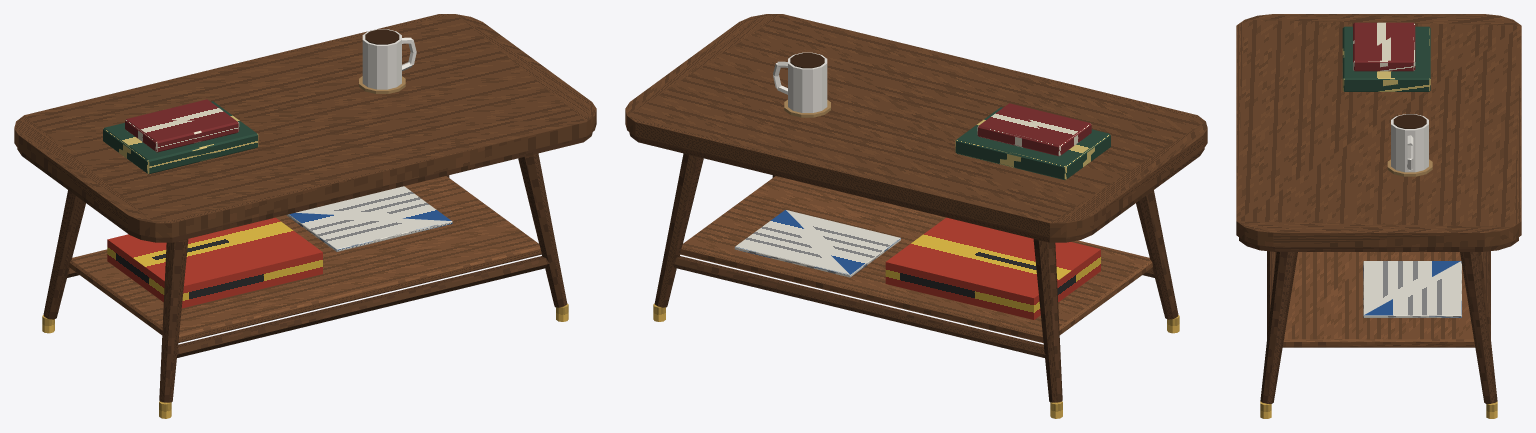
File: f_coffee_table.glb
3 renders of one model, left to right at view 1: azimuth 30°, elevation 25°; view 2: azimuth 150°, elevation 25°; view 3: azimuth 270°, elevation 25°, orthographic. The views are drawn at different scales.
Visible parts, largest first — view 1: block_top, block_shelf, block_game0, block_magazine, block_rail1, block_book2, block_book1, block_game2, block_edge, block_leg-11, block_leg11, block_leg-1-1 (+2 smaller); view 2: block_top, block_shelf, block_game0, block_magazine, block_rail-1, block_book1, block_book2, block_game3, block_edge, block_leg-1-1, block_leg1-1, block_leg-11 (+2 smaller); view 3: block_top, block_shelf, block_magazine, block_book2, block_book1, block_leg1-1, block_leg11, block_mug, block_edge, block_rail-1, block_rail1, block_coffee (+1 smaller).
Part boxes in pixels (box(x1,y1,x2,y2)): block_top: box(14, 14, 596, 237); block_shelf: box(69, 176, 541, 342); block_game0: box(108, 217, 322, 285); block_magazine: box(286, 186, 452, 251); block_rail1: box(176, 256, 550, 357); block_book2: box(125, 99, 239, 152); block_book1: box(103, 101, 258, 174); block_game2: box(181, 252, 322, 308); block_edge: box(17, 132, 592, 242); block_leg-11: box(159, 239, 188, 402); block_leg11: box(518, 153, 567, 307); block_leg-1-1: box(43, 190, 85, 319); block_top: box(625, 14, 1207, 237); block_shelf: box(680, 176, 1152, 342); block_game0: box(886, 217, 1100, 297); block_magazine: box(734, 210, 900, 277); block_rail-1: box(671, 256, 1045, 357); block_book1: box(955, 107, 1110, 180); block_book2: box(977, 103, 1091, 156); block_game3: box(885, 262, 1033, 319); block_edge: box(629, 132, 1204, 242); block_leg-1-1: box(1033, 239, 1062, 402); block_leg1-1: box(654, 153, 703, 307); block_leg-11: box(1136, 190, 1178, 319); block_top: box(1236, 14, 1521, 246); block_shelf: box(1275, 252, 1482, 347); block_magazine: box(1363, 261, 1461, 317); block_book2: box(1353, 22, 1415, 71); block_book1: box(1342, 26, 1430, 91); block_leg1-1: box(1460, 252, 1497, 403); block_leg11: box(1260, 252, 1297, 403); block_mug: box(1391, 114, 1428, 172); block_edge: box(1239, 237, 1518, 251); block_rail-1: box(1482, 251, 1490, 338); block_rail1: box(1267, 251, 1275, 338); block_coffee: box(1393, 114, 1426, 128).
Size of the model in its own units: 0.9998 by 0.5225 by 0.5508.
Materials: 2 (2 with a texture image).
